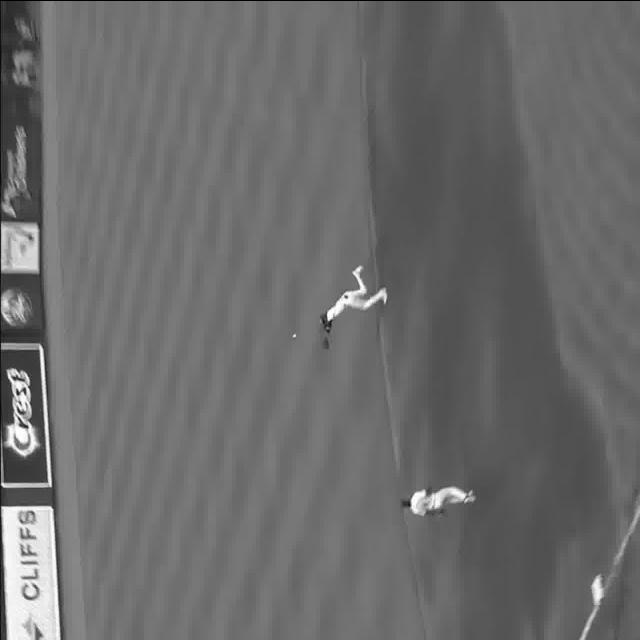base: (588, 570, 605, 608)
baseball: (293, 333, 297, 336)
baseball_glove: (318, 336, 332, 348), (436, 506, 448, 518)
shoe: (464, 485, 476, 503), (352, 260, 366, 274), (378, 285, 388, 304)
